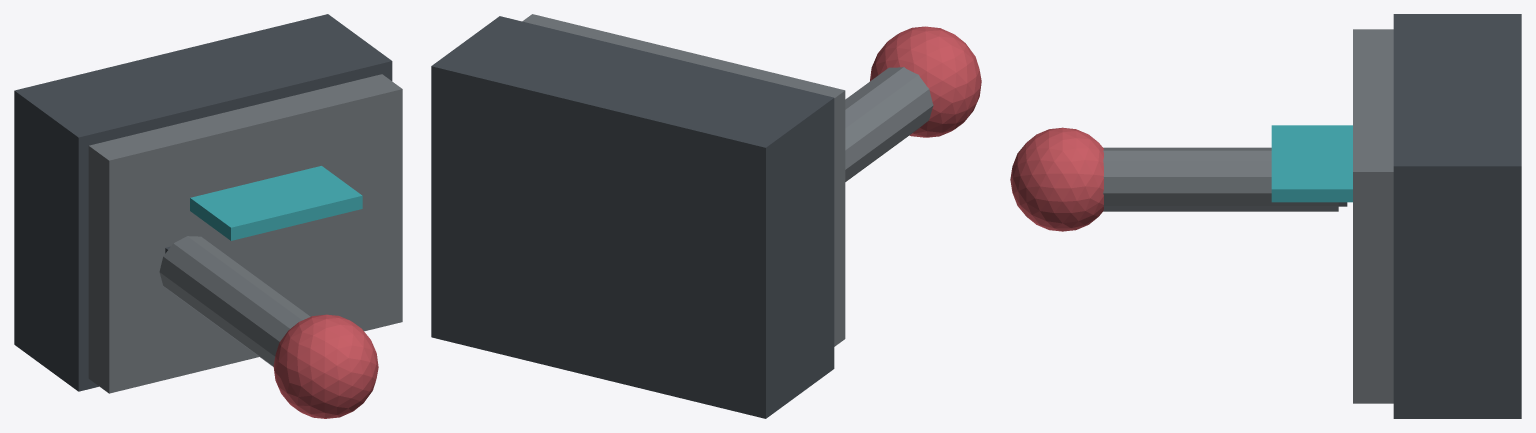
File: interactable-lever.glb
3 views of the same model, side by side, from view 1: azimuth 30°, elevation 25°; view 2: azimuth 150°, elevation 25°; view 3: azimuth 270°, elevation 25° (orthographic). The views are drawn at different scales.
Visible parts, largest first — view 1: world; view 2: world; view 3: world.
Part boxes in pixels (x1,y1,x2,y2): world: [14, 14, 402, 418]; world: [431, 14, 981, 418]; world: [1010, 14, 1521, 418].
Size of the model in its own units: 0.62 by 0.48 by 0.88.
